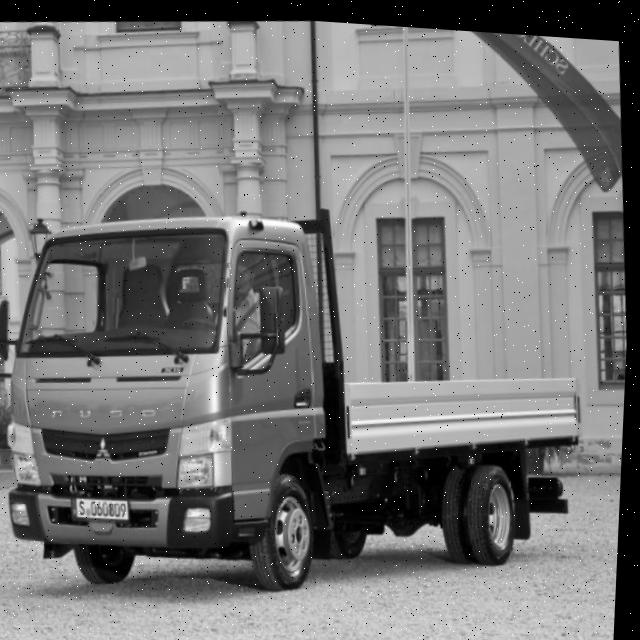truck: (1, 163, 375, 603)
